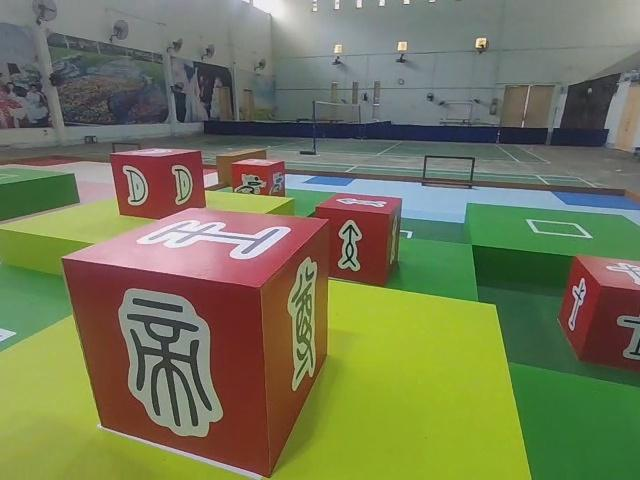R1: (234, 157, 287, 199)
R2 Fake: (62, 218, 335, 472)
R2 Real: (558, 257, 640, 370), (311, 189, 400, 287), (111, 149, 208, 215)
